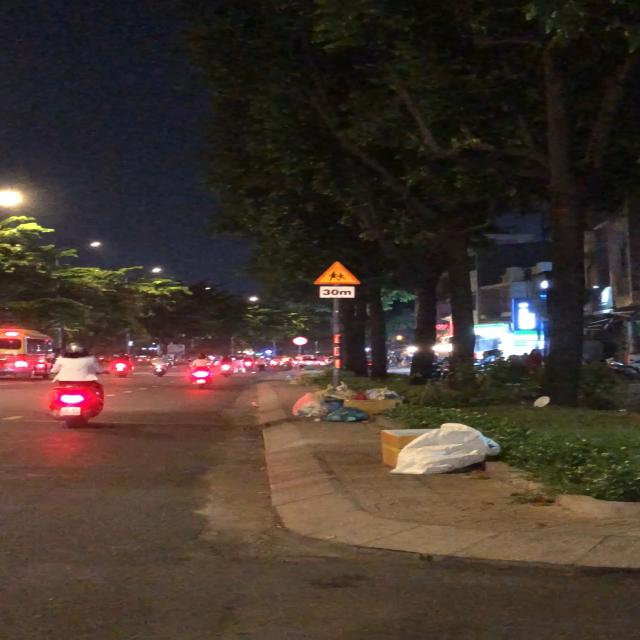Bien bao tre em: (310, 258, 362, 289)
